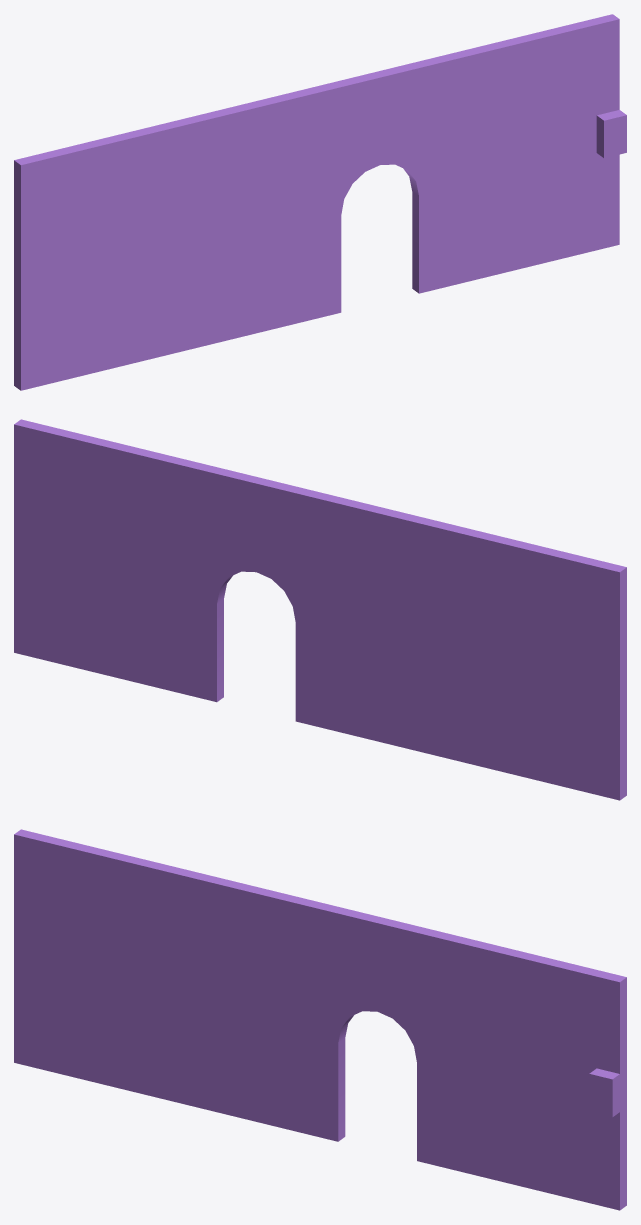
The model's file is wall_jail.FBX.
3 views of the same model, one above another, from view 1: azimuth 30°, elevation 25°; view 2: azimuth 150°, elevation 25°; view 3: azimuth 330°, elevation 25° (orthographic).
Parts seen in each view (by area): view 1: wall_jail; view 2: wall_jail; view 3: wall_jail.
Boxes of the visible parts, box(x1,y1,x2,y2) form: wall_jail: box(14, 14, 626, 390); wall_jail: box(14, 419, 626, 800); wall_jail: box(14, 829, 626, 1210).
Size of what is drawn, in the model's own units: 2500 by 103 by 900.
